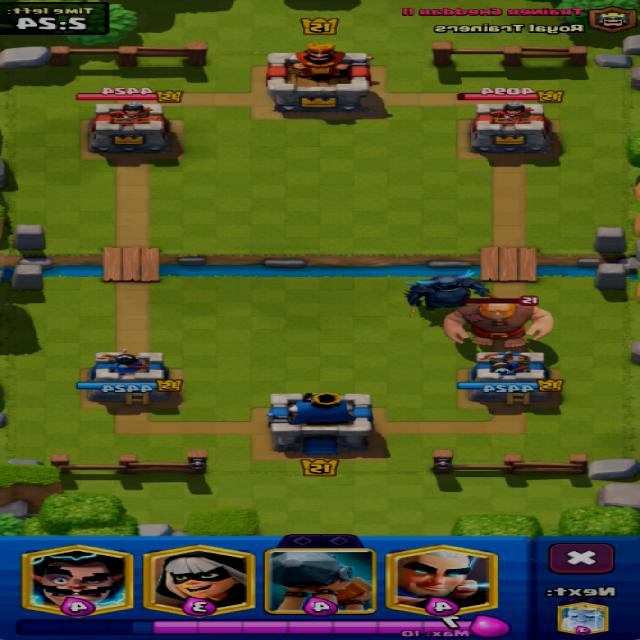Enemy-Giant: (444, 303, 552, 347)
Enemy-KingTower: (268, 43, 370, 113)
Enemy-PrincessTower: (91, 102, 170, 154), (471, 103, 552, 153)
